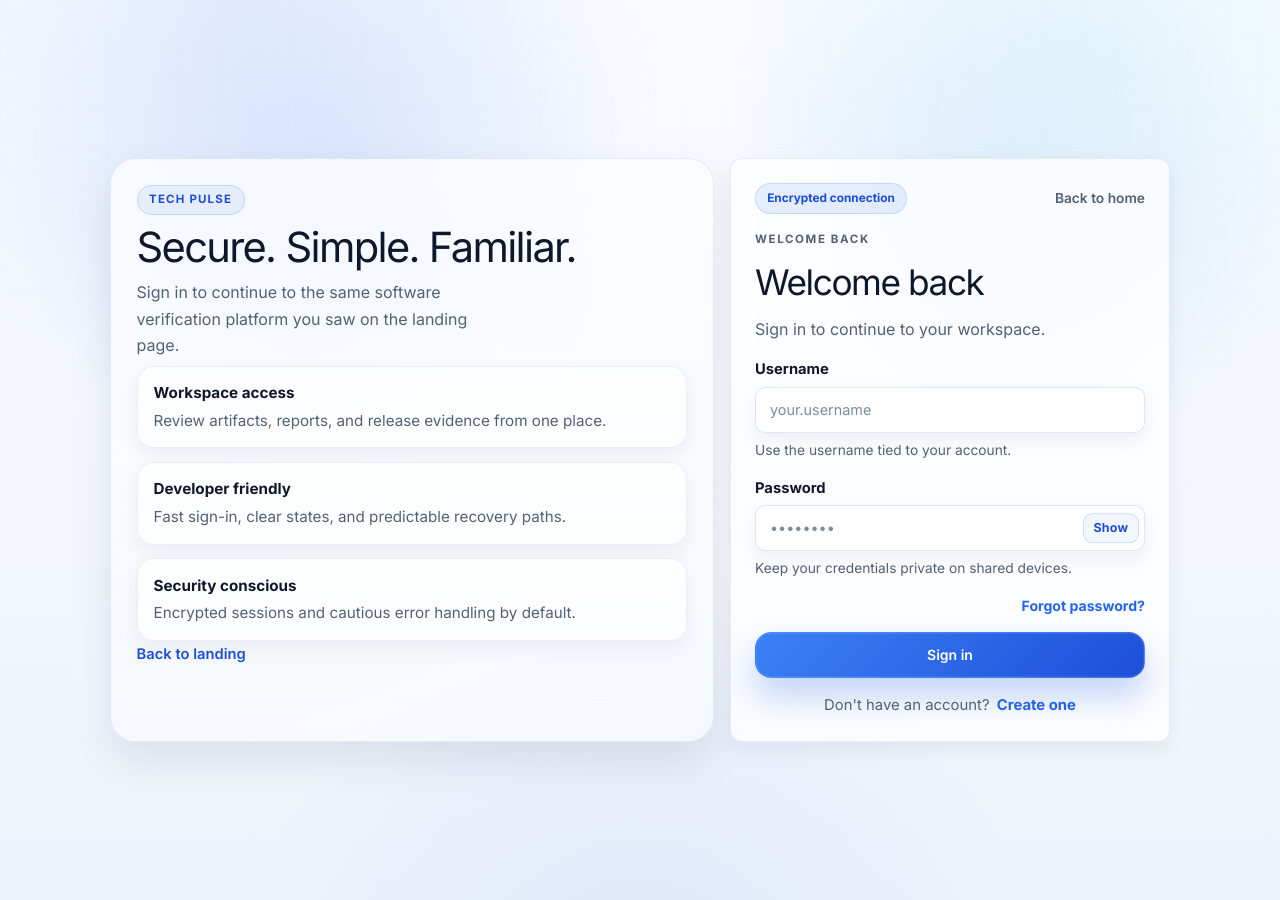
Test case: LoginRoutePage › validates required fields
Click the button "Sign in".
click(950, 655)  # box [755,632,1145,678]
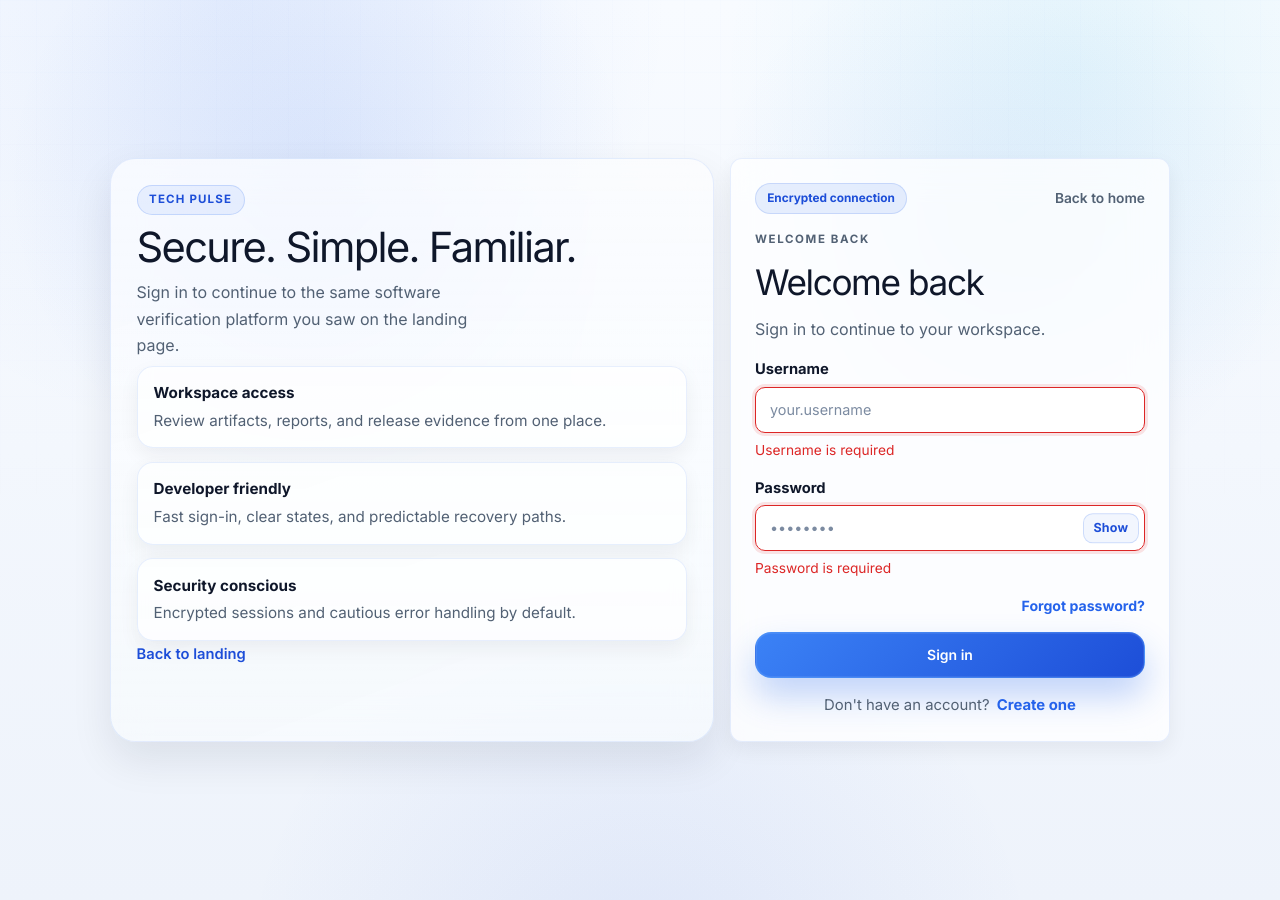
Now the text "Username is required" is shown, box [755,442,894,458]
Now the text "Password is required" is shown, box [755,560,891,576]
